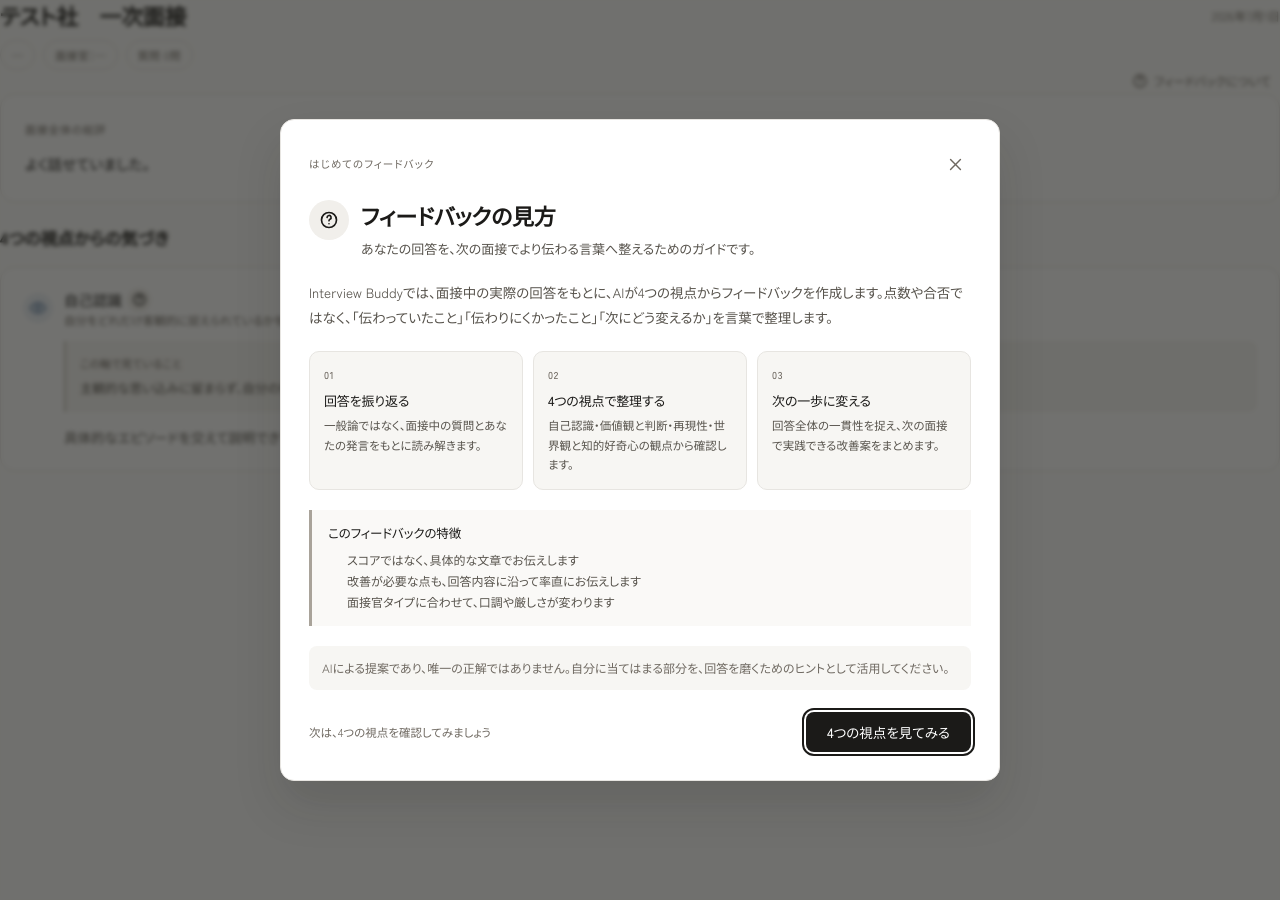
Test case: SessionDetailView › 初回は説明と評価軸の補足を展開し、確認時に既読を保存する
Expected: the dialog is shown, x1=280 y1=119 x2=1000 y2=781
Expected: the heading "フィードバックの見方" is shown, x1=361 y1=199 x2=555 y2=231
Step 1. Click the button "4つの視点を見てみる" → (888,732), box x1=806 y1=712 x2=971 y2=752
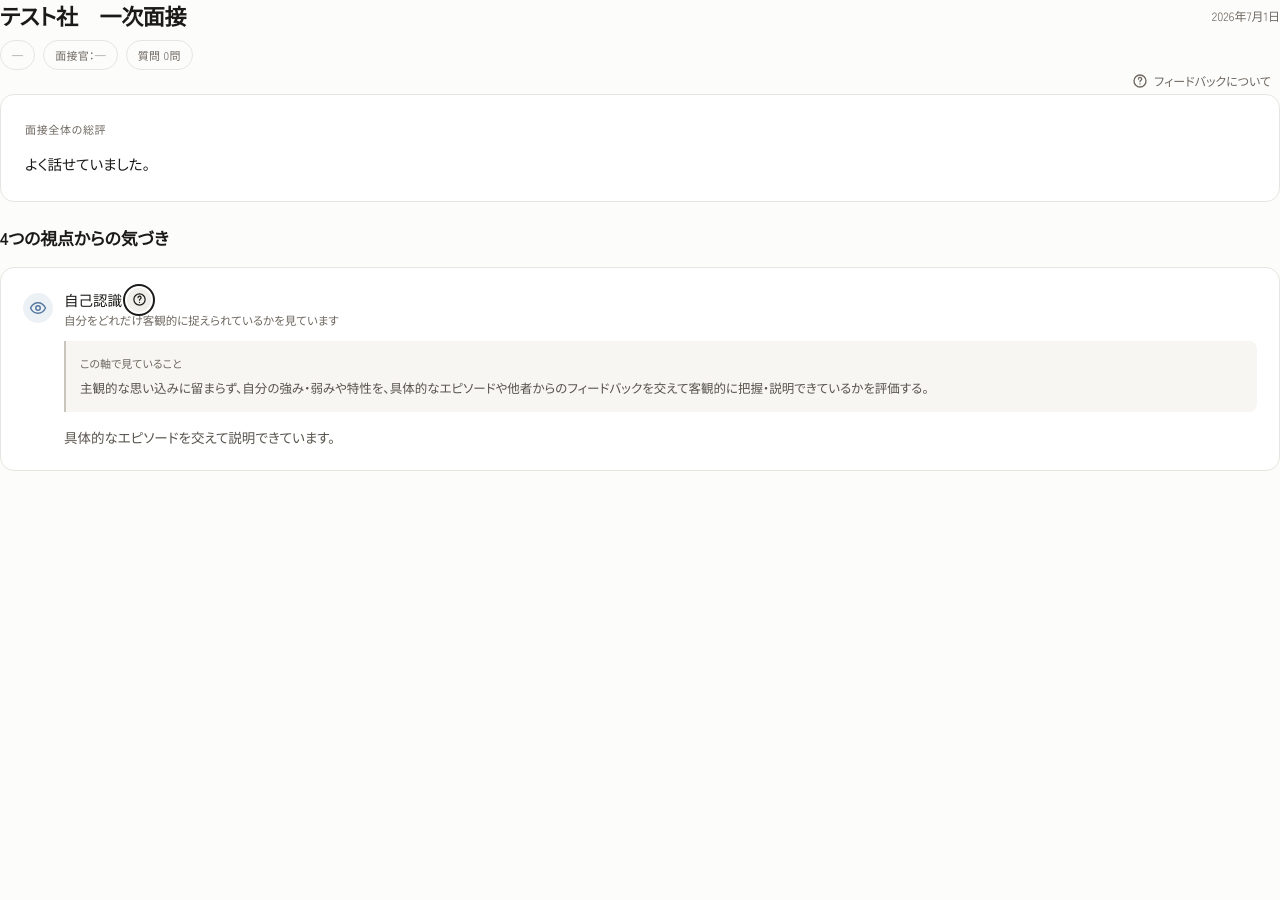
Expected: the heading "フィードバックの見方" is gone
